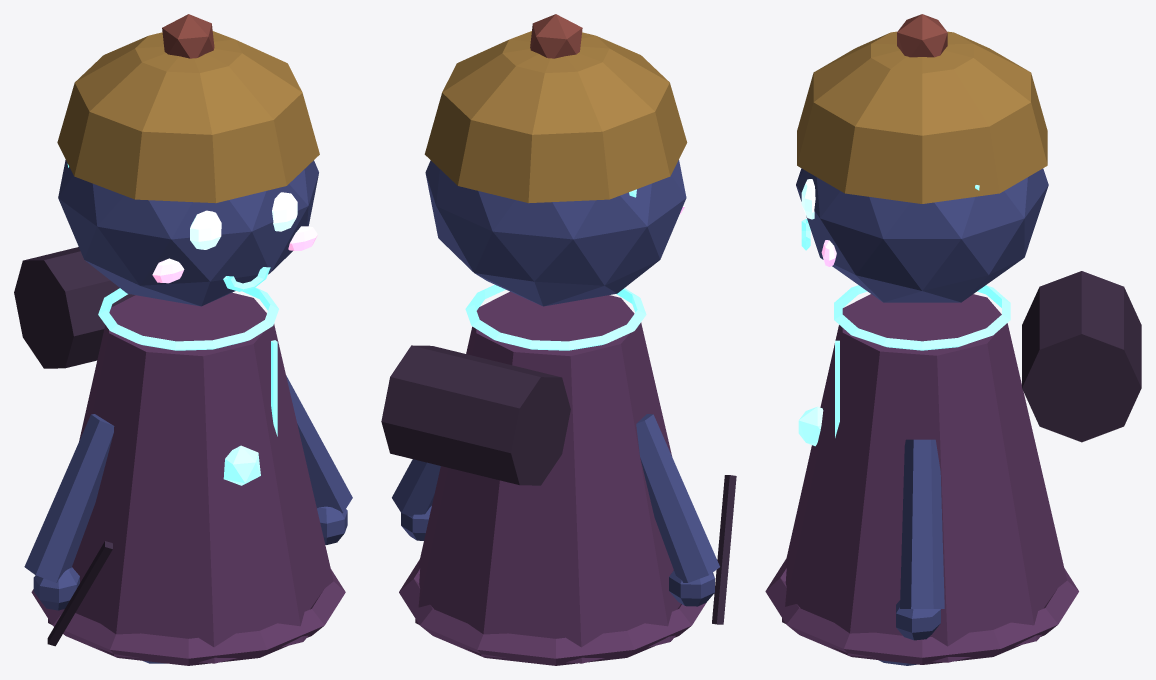
Rendered from tisserand_modele.glb.
The picture shows the model from 3 angles, left to right: view 1: azimuth 30°, elevation 25°; view 2: azimuth 150°, elevation 25°; view 3: azimuth 270°, elevation 25°; orthographic projection.
Parts seen in each view (by area): view 1: Robe_Tisserand, L24, Crane_Tisserand, P20.003, P4.005, P8.005, P6.005, P22.002, P26.002, P27.004, P9.005, Coeur_Tisserand (+7 smaller); view 2: Robe_Tisserand, L24, Crane_Tisserand, P20.003, P4.005, P8.005, P22.002, P6.005, P27.004, P26.002, P9.005, P7.005; view 3: Robe_Tisserand, L24, Crane_Tisserand, P20.003, P4.005, P6.005, P22.002, P26.002, P7.005, Coeur_Tisserand.
Part boxes in pixels (x1,y1,x2,y2): Robe_Tisserand: (48, 292, 333, 663); L24: (57, 31, 319, 203); Crane_Tisserand: (58, 160, 318, 306); P20.003: (14, 247, 135, 368); P4.005: (31, 569, 345, 665); P8.005: (24, 414, 114, 582); P6.005: (286, 375, 352, 513); P22.002: (98, 287, 278, 350); P26.002: (162, 14, 214, 58); P27.004: (47, 541, 112, 646); P9.005: (33, 567, 79, 610); Coeur_Tisserand: (223, 445, 260, 485); Robe_Tisserand: (415, 291, 680, 663); L24: (424, 31, 687, 203); Crane_Tisserand: (425, 160, 686, 306); P20.003: (381, 345, 570, 485); P4.005: (399, 559, 706, 665); P8.005: (636, 414, 719, 582); P22.002: (465, 285, 646, 350); P6.005: (392, 459, 440, 516); P27.004: (712, 475, 736, 624); P26.002: (530, 14, 582, 58); P9.005: (669, 570, 714, 606); P7.005: (401, 506, 431, 540); Robe_Tisserand: (782, 294, 1066, 662); L24: (797, 31, 1047, 203); Crane_Tisserand: (796, 168, 1048, 302); P20.003: (1022, 271, 1141, 442); P4.005: (765, 559, 1078, 664); P6.005: (900, 439, 944, 608); P22.002: (834, 285, 1010, 350); P26.002: (897, 14, 947, 57); P7.005: (896, 600, 940, 640); Coeur_Tisserand: (798, 406, 823, 446).
Size of the model in its own units: 0.8078 by 1.52 by 0.8305.
